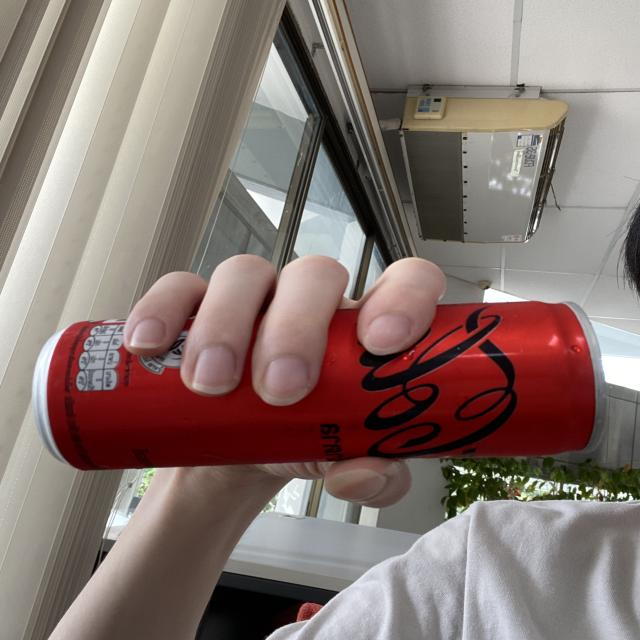can: (32, 300, 609, 472)
